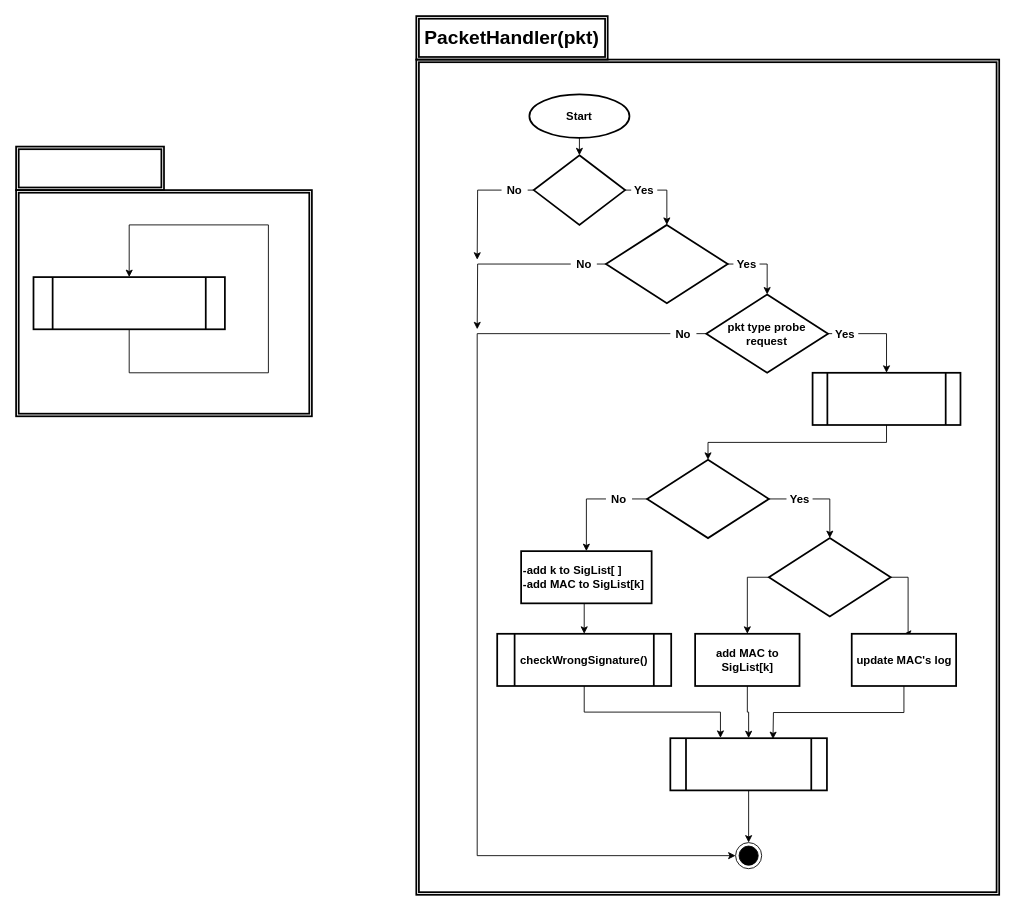
Some shapes in this 1014 by 910 pixel diagram are drawn without their labels. The centre of each missing label's shape, as x and y in pixels:
checkCancellation(): the point at 748,764
k=getSignature(pkt): the point at 886,398
MAC in SigList[k]: the point at 829,577
pkt has layer Dot11: the point at 579,189
pkt type beacon frame: the point at 666,264
signature in SigList: the point at 707,498
sniff(iface,PacketHandler): the point at 128,303
ThreadSniffing: the point at 89,168
